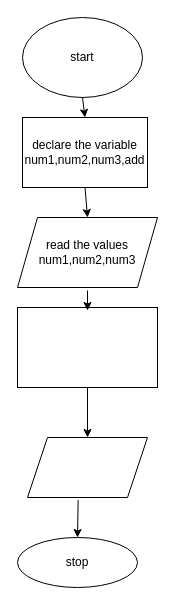
Image size: 175x605. Some labels were removed from this diagram. The shapes that lost their labels are listed below. From the top down, each one's centre as x and y in pixels, then its label:
At (x=87, y=347): "add=num1+num2+num3".
At (x=87, y=467): "print add".
